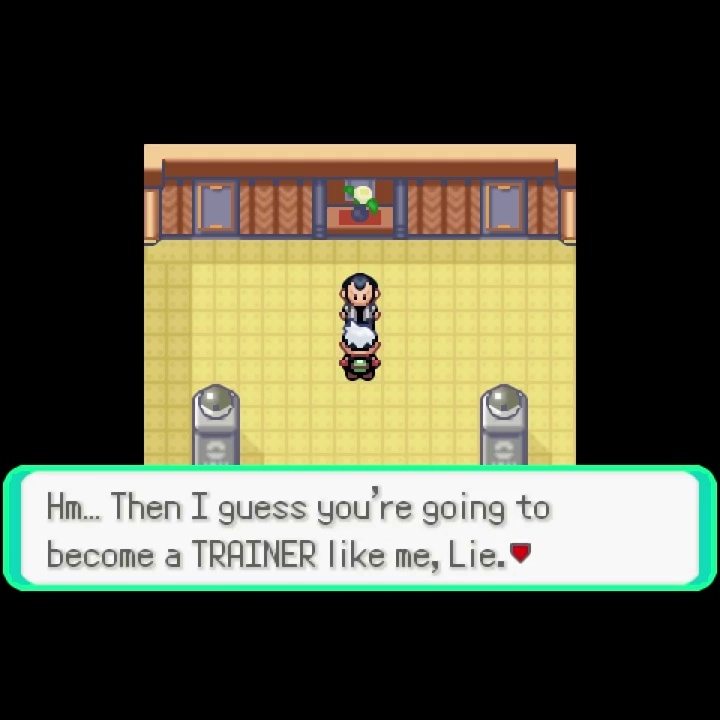agent: (337, 324, 384, 384)
npc: (337, 269, 383, 327)
